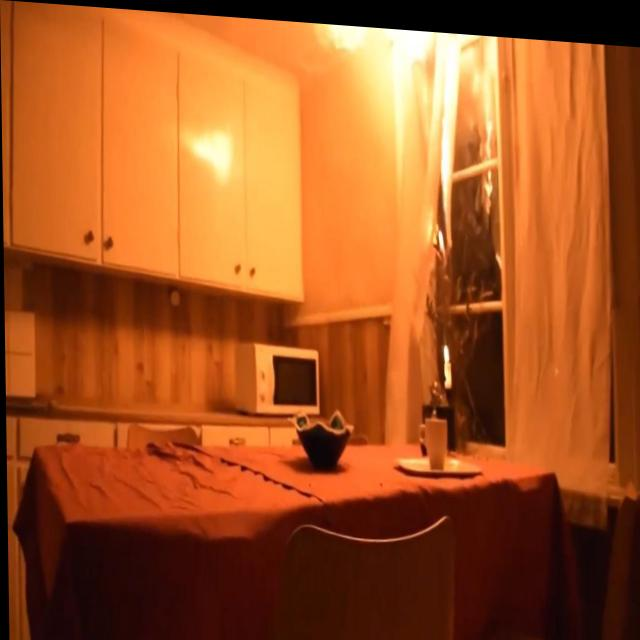fire: (301, 18, 492, 111), (441, 334, 449, 357)
